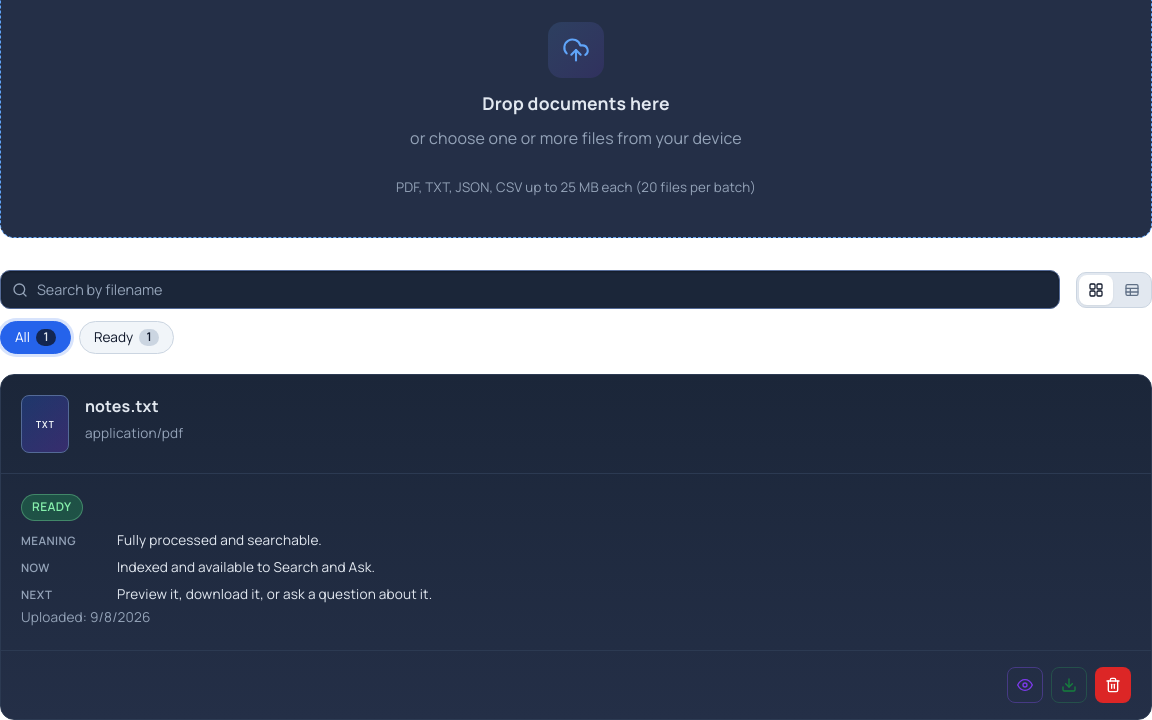
Test case: DocumentsPage preview › closes the modal when the Close button is clicked
(page scrolled)
Click the button named "Preview document" at (1025, 685), box [1007, 667, 1043, 703]
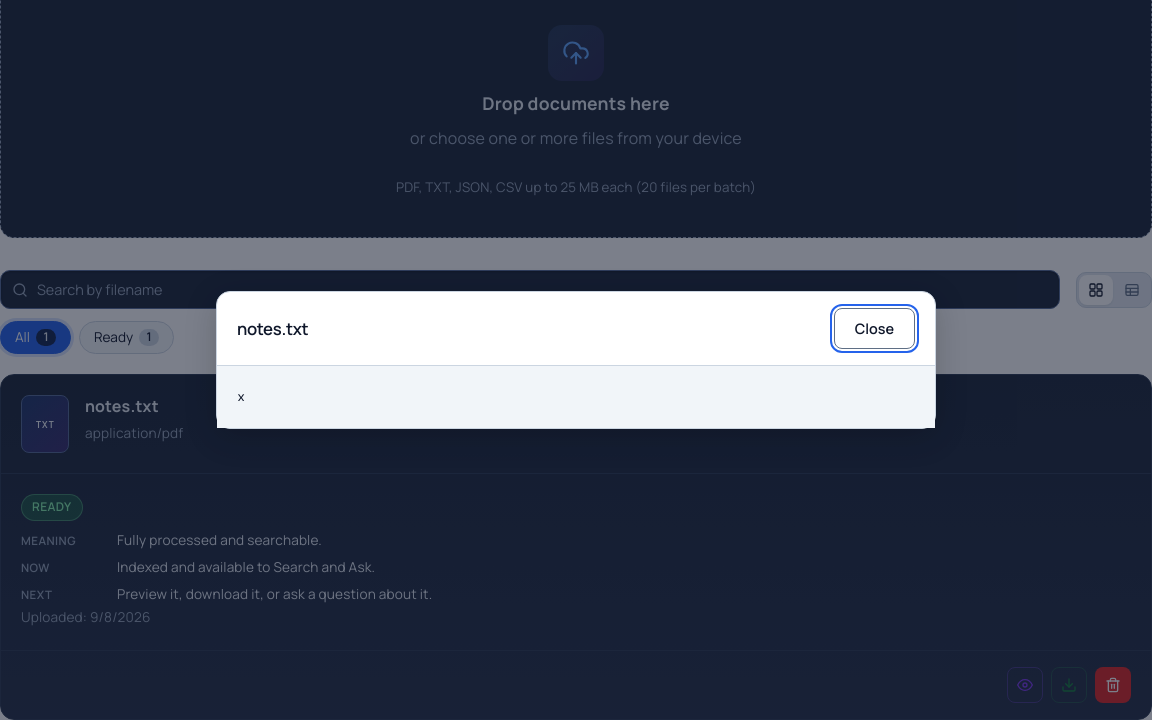
Expected: the dialog is shown, [216, 291, 936, 429]
Click the button "Close" at (874, 329), box [834, 308, 915, 349]
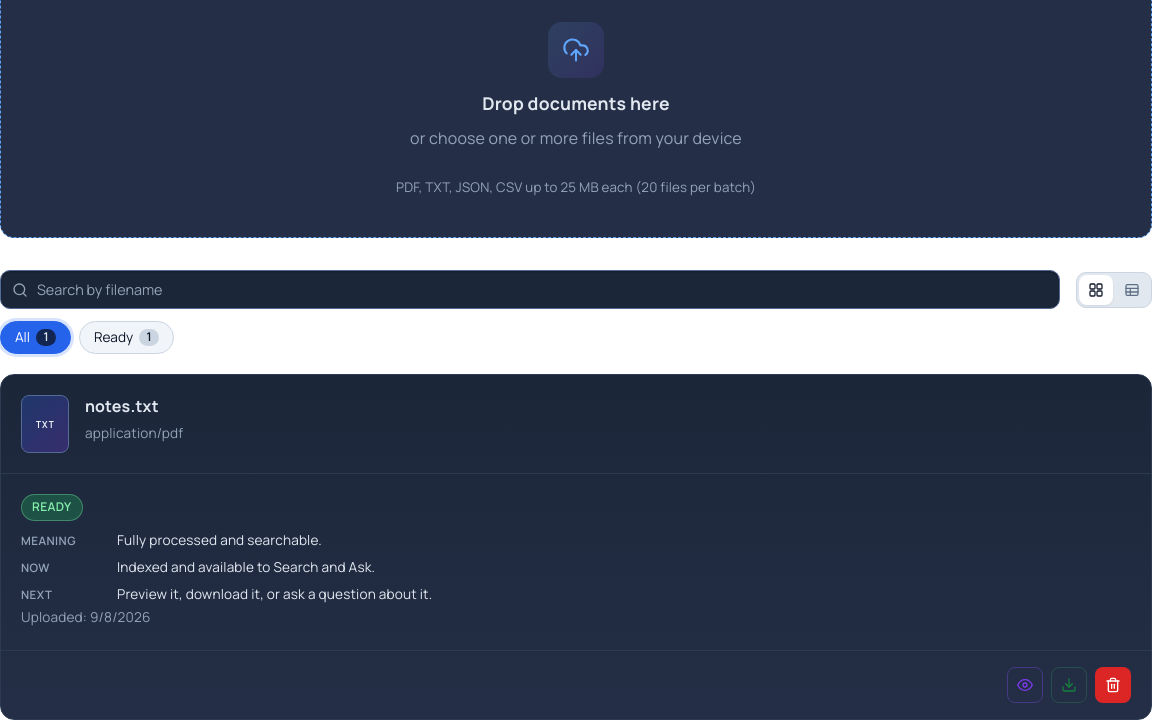
Expected: the dialog is gone
